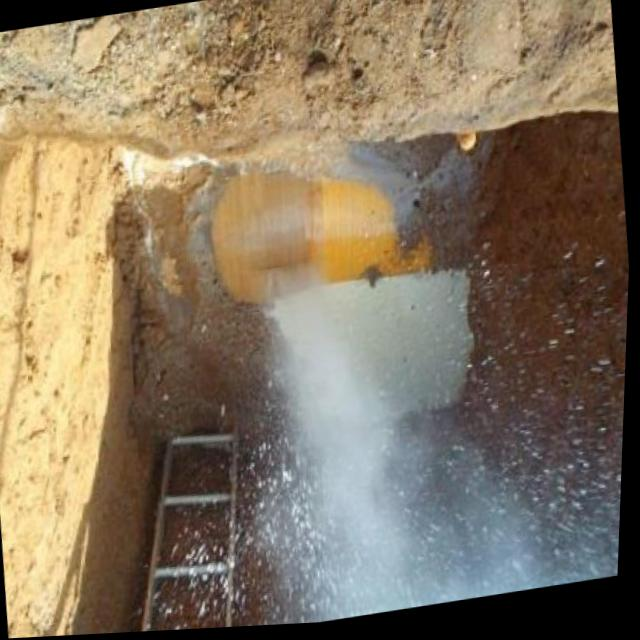leak: (152, 232, 628, 631)
